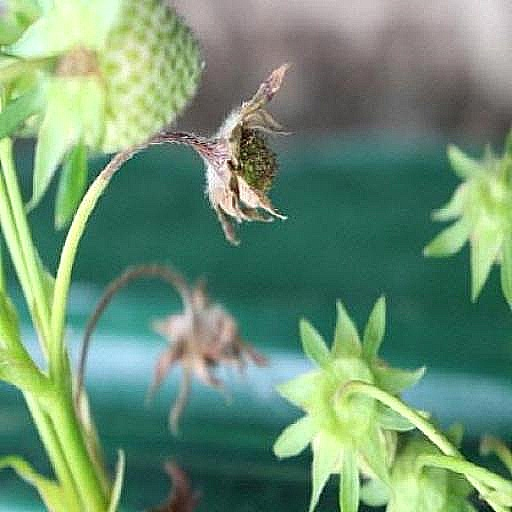Gray Mold: (215, 266, 355, 451)
